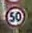limite 50: (3, 4, 26, 27)
